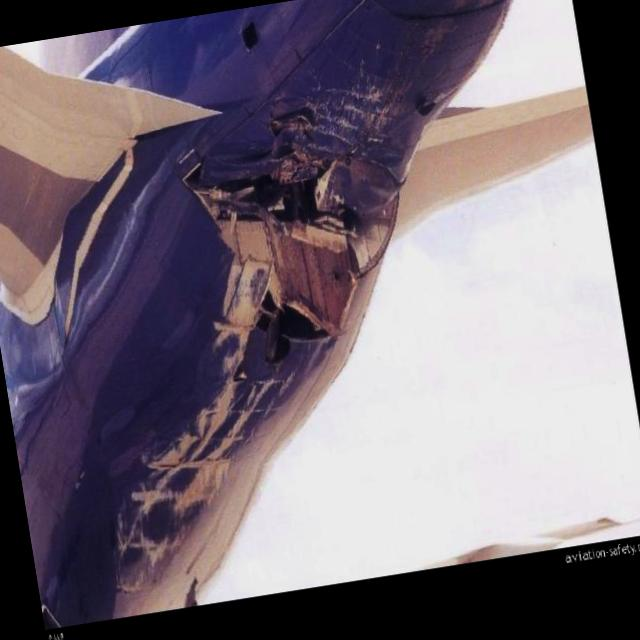crack: (179, 132, 385, 378), (265, 100, 322, 148)
